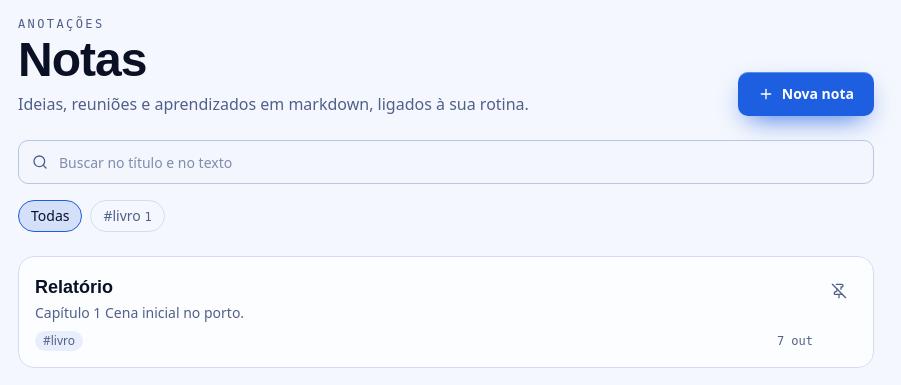
Test case: NotesPage › busca › sem resultado, avisa que o filtro não achou nada (diferente de não ter notas)
Expected: the text "Relatório" is shown, [35, 277, 113, 297]
Type "inexistente" into the search field named "Buscar nas notas" at (446, 162), box [18, 140, 874, 184]
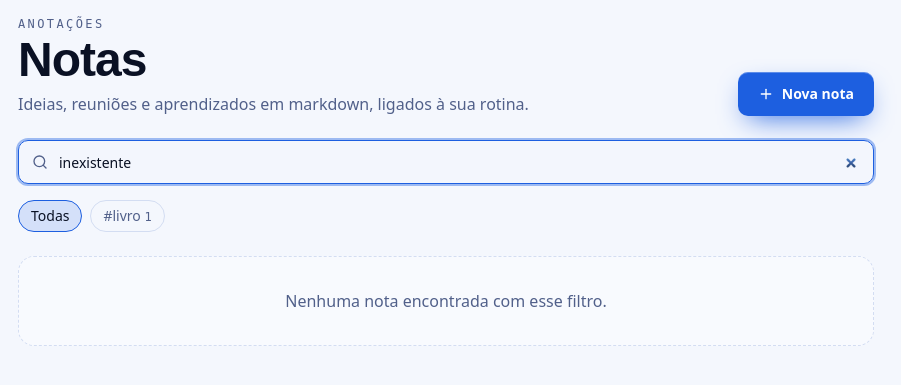
Now the text "Nenhuma nota encontrada com esse filtro." is shown, box [18, 256, 874, 346]
